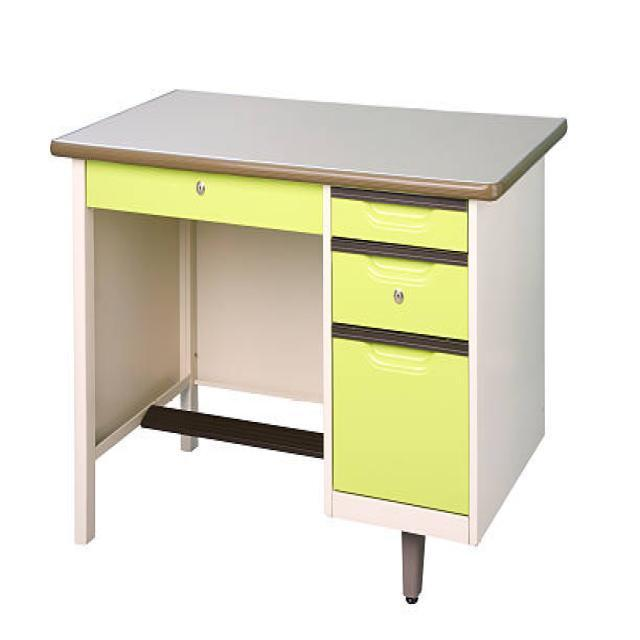table: (49, 85, 567, 604)
